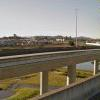Bridge: (0, 35, 97, 83)
